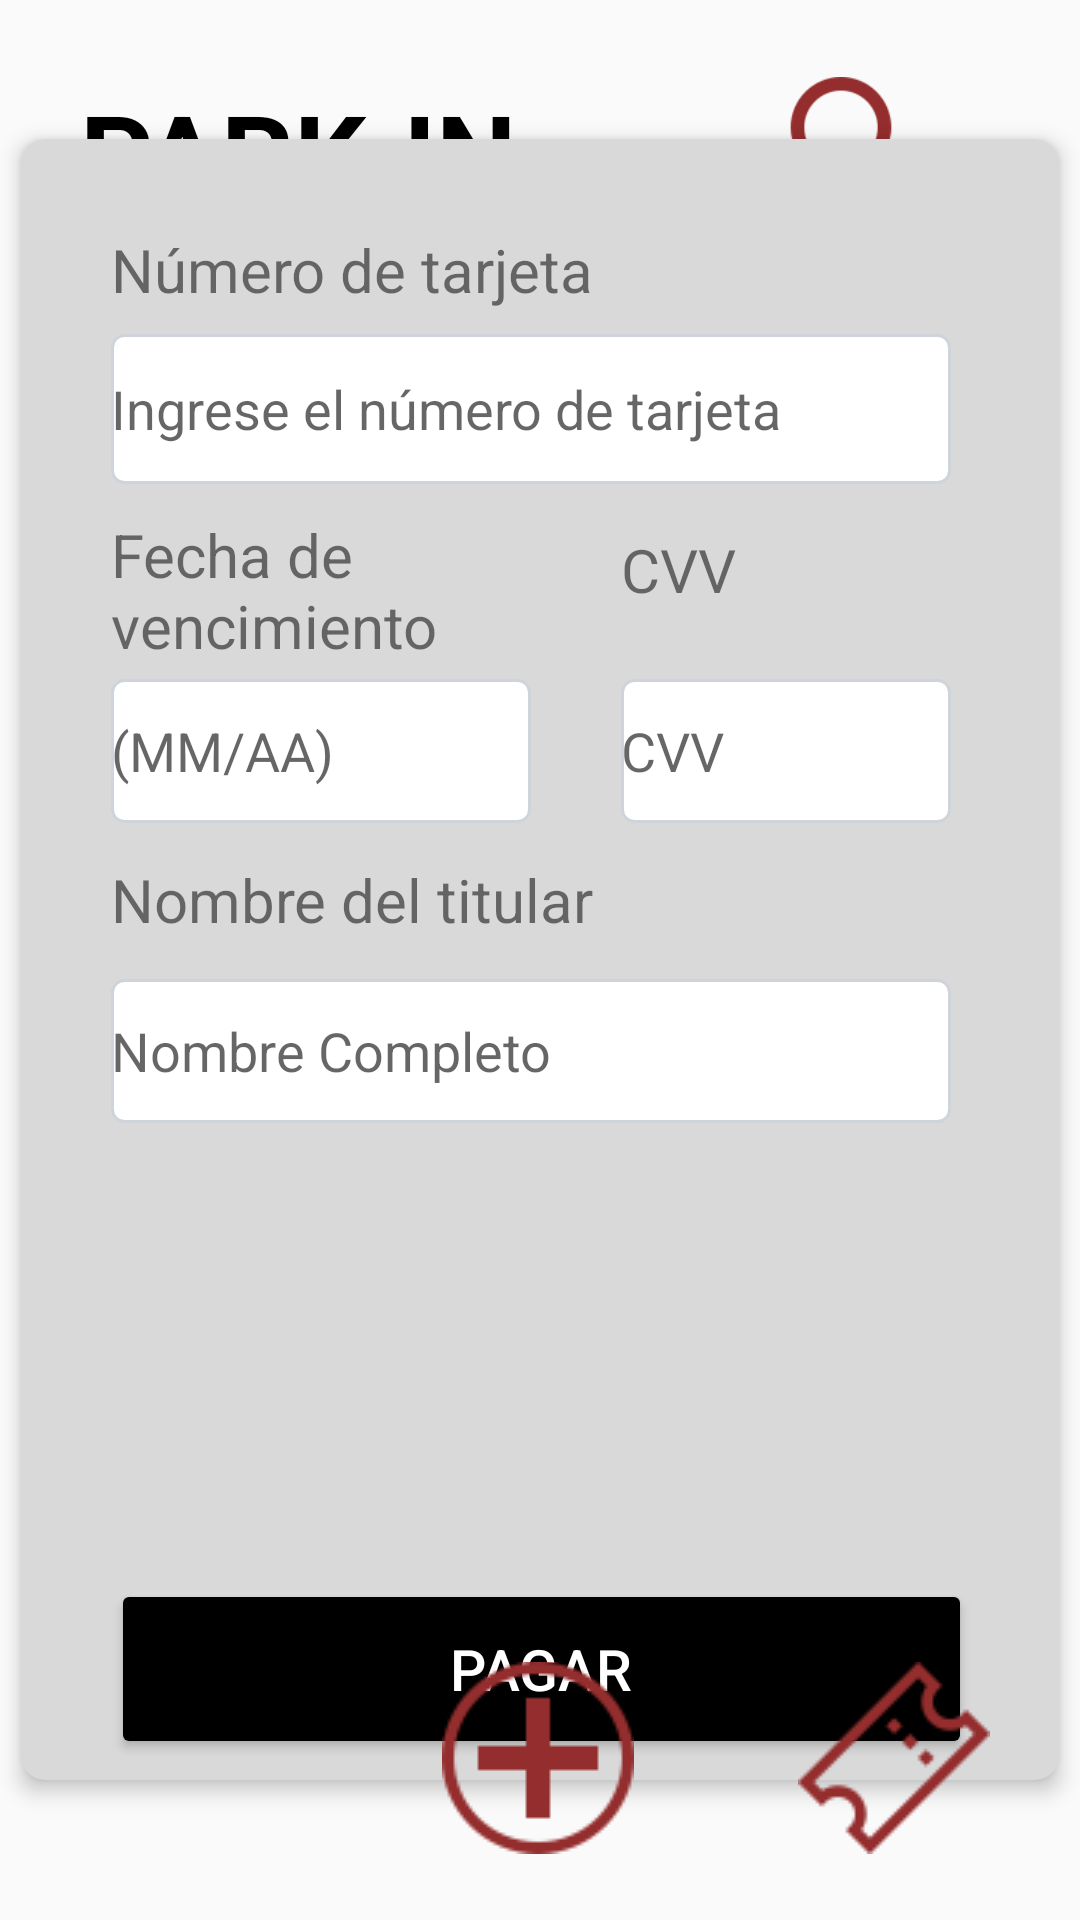

Icon click points for this 1080×1920 phone screenshot, format (x=x, y=y):
circuloplus: (x=538, y=1758)
entradas: (x=894, y=1758)
